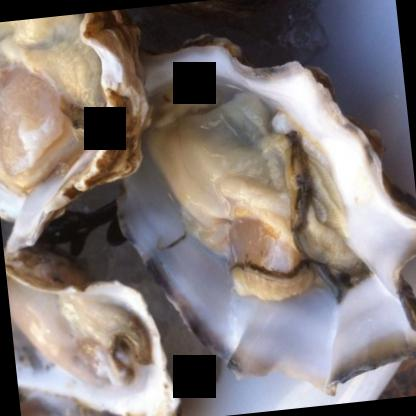oyster: (97, 29, 415, 405), (0, 6, 164, 237), (3, 233, 190, 415)
